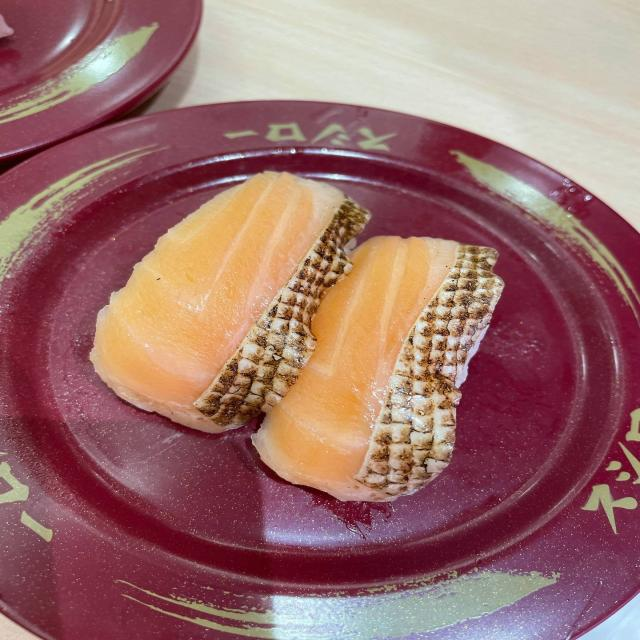janred: (6, 126, 640, 631), (0, 0, 148, 121)
